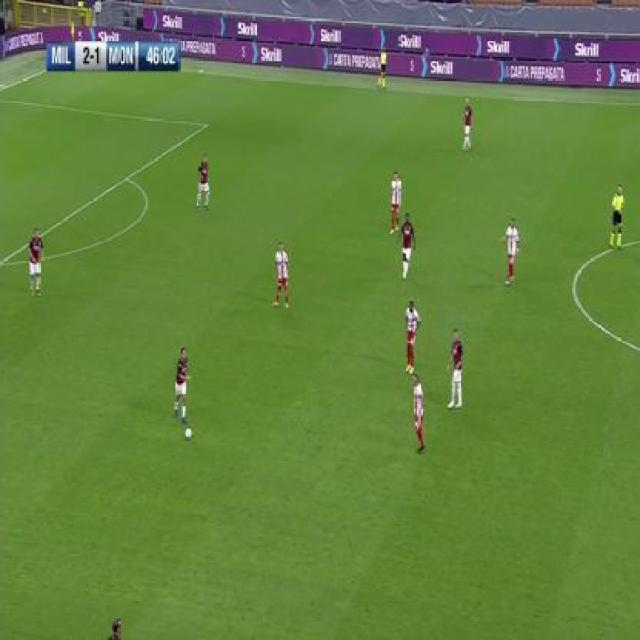ball: (184, 426, 192, 440)
player: (446, 325, 466, 410), (498, 216, 520, 285), (27, 225, 46, 301), (396, 212, 416, 283), (272, 240, 292, 311), (411, 372, 427, 455), (173, 345, 190, 422), (403, 298, 420, 374), (609, 182, 626, 253), (195, 150, 212, 215), (387, 169, 403, 237), (460, 96, 474, 153), (377, 43, 388, 91)
